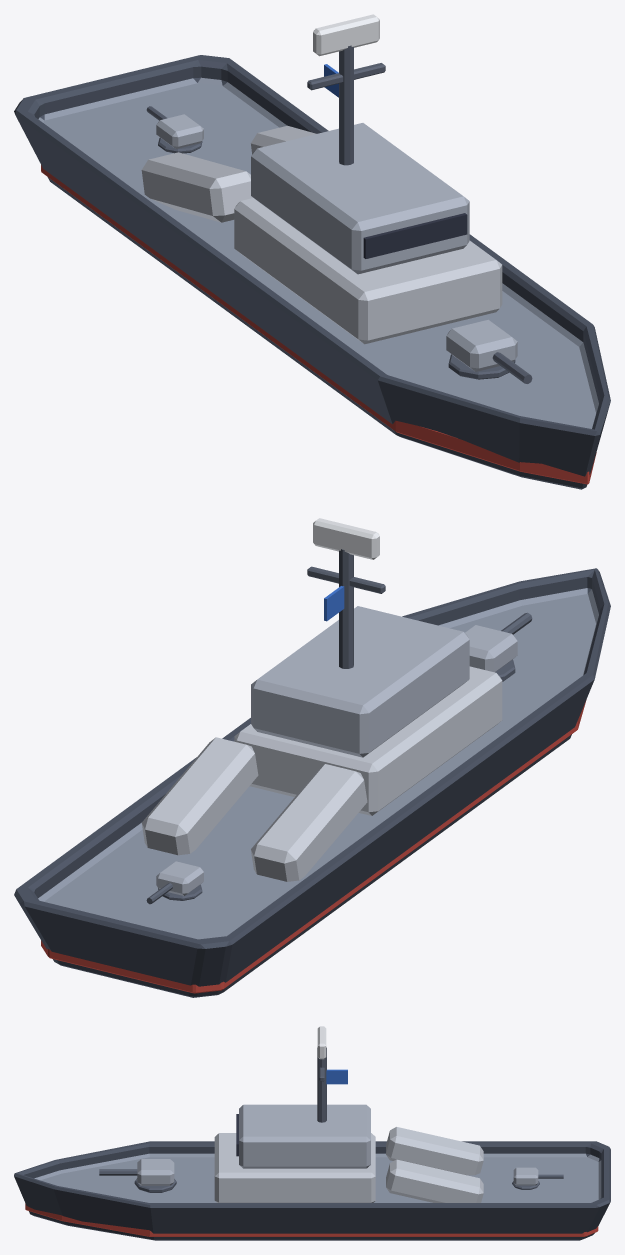
The model's file is corveta.glb.
3 views of the same model, one above another, from view 1: azimuth 30°, elevation 25°; view 2: azimuth 150°, elevation 25°; view 3: azimuth 270°, elevation 25° (orthographic). The views are drawn at different scales.
Visible parts, largest first — view 1: corveta; view 2: corveta; view 3: corveta.
Part boxes in pixels (x1,y1,x2,y2): corveta: (14,14,610,489); corveta: (14,518,610,997); corveta: (14,1026,610,1240).
Size of the model in its own units: 1.43 by 1.86 by 5.56.
